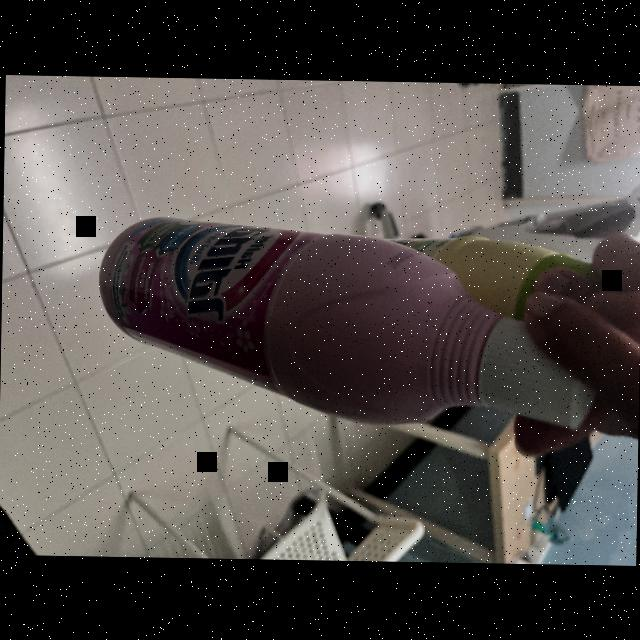chemical_plastic_bottle: (94, 208, 594, 432)
